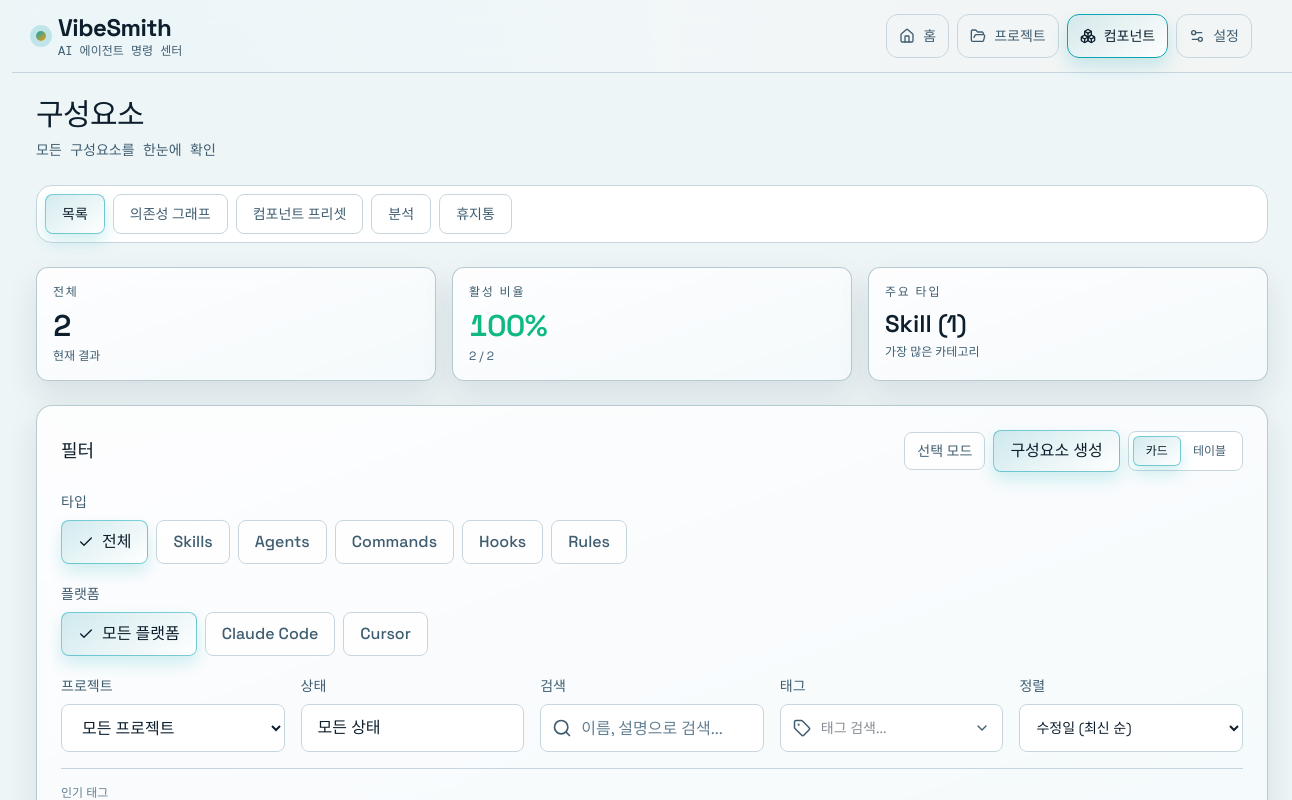
it: Filters Integration › supports multi type selection (OR) and stores types query
The image size is (1292, 800).
Expected: the heading "필터" is shown, top-left (61, 437), bottom-right (94, 465)
Click the button "Skills" at [193, 542], box top-left (156, 520), bottom-right (230, 564)
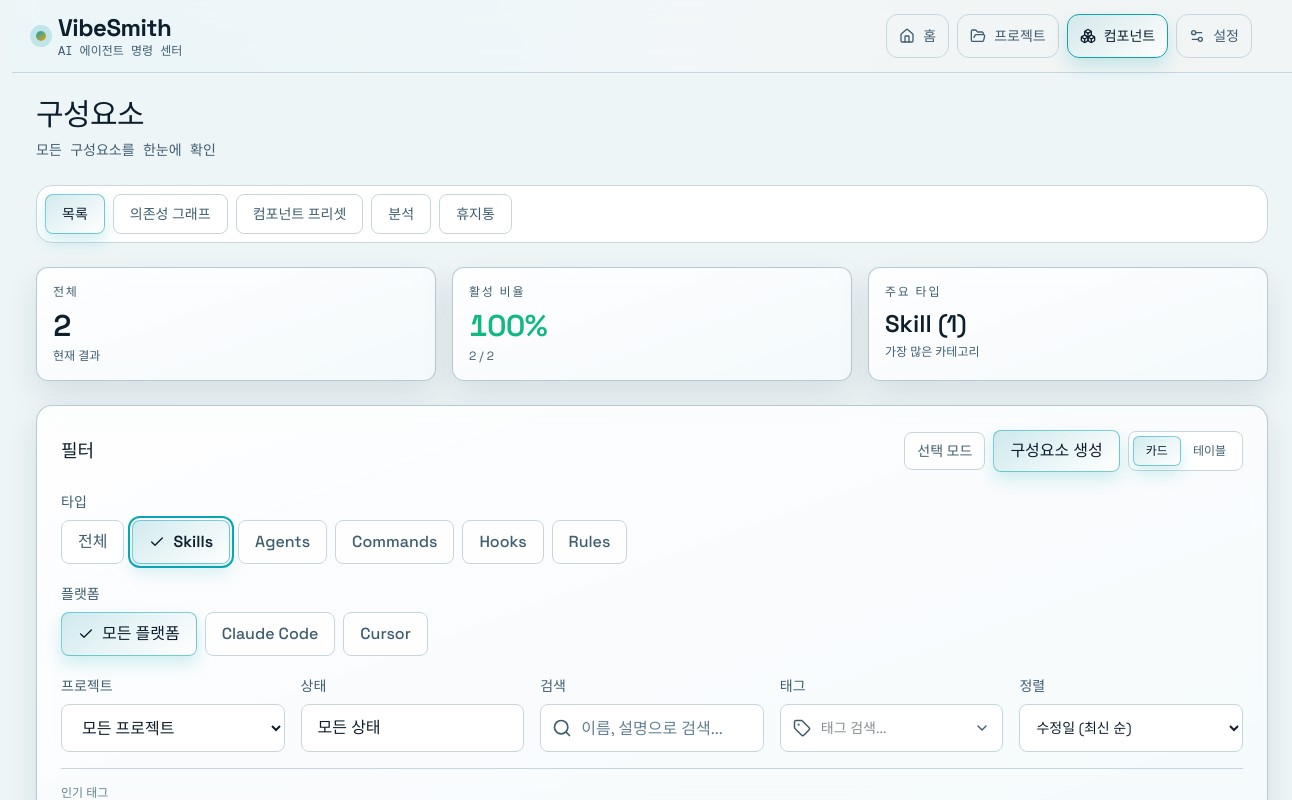
Click the button "Agents" at [282, 542], box top-left (238, 520), bottom-right (327, 564)
(page scrolled)
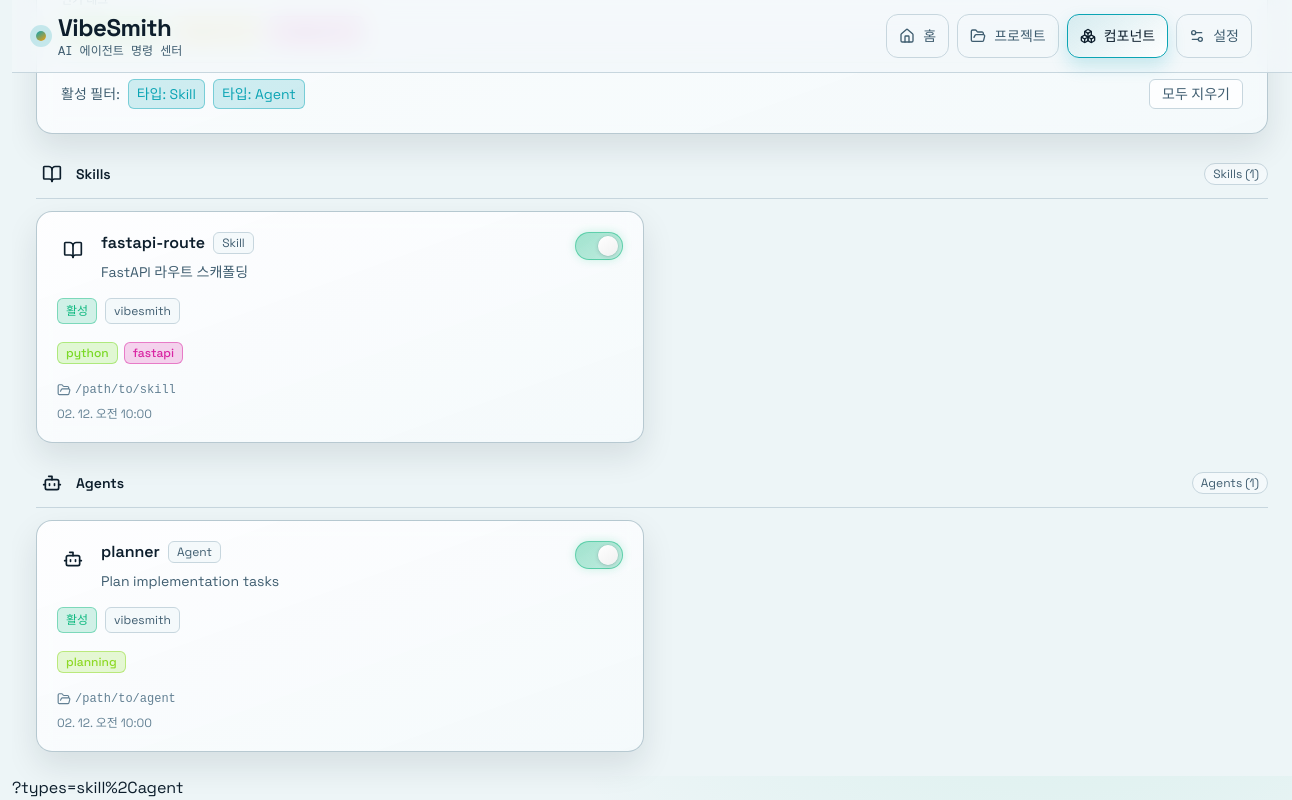
Expected: the text with test id "location-search" shows "types=skill%2Cagent", top-left (12, 777), bottom-right (183, 798)
